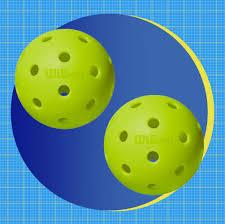ball: (103, 92, 208, 200), (14, 26, 118, 132)
